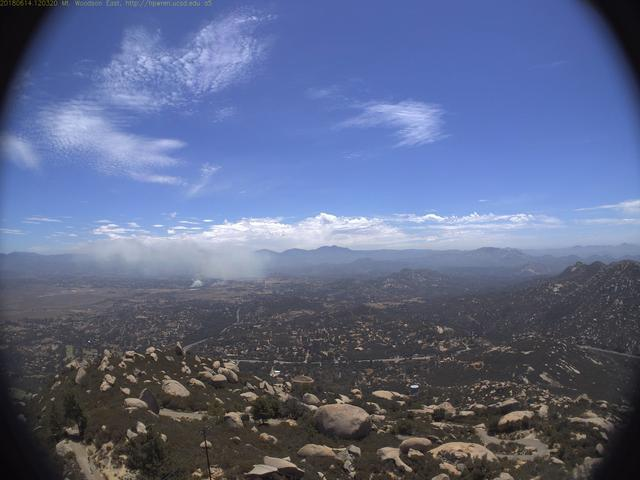smoke: (76, 230, 264, 291)
